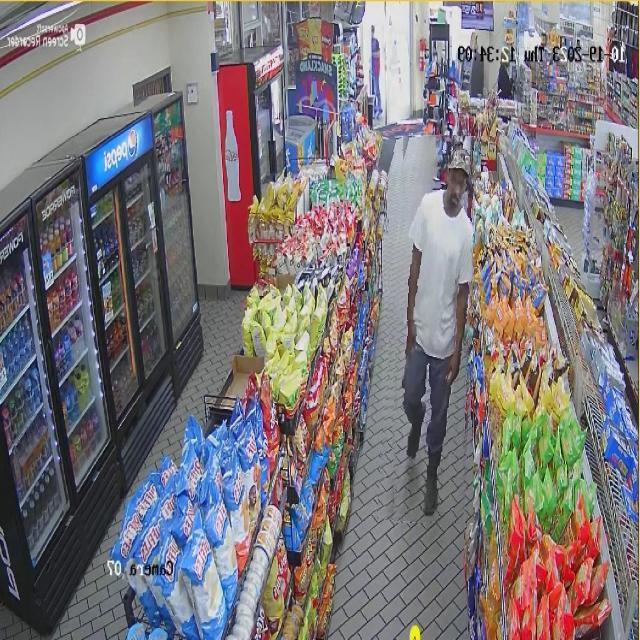Normal: (383, 133, 473, 523)
